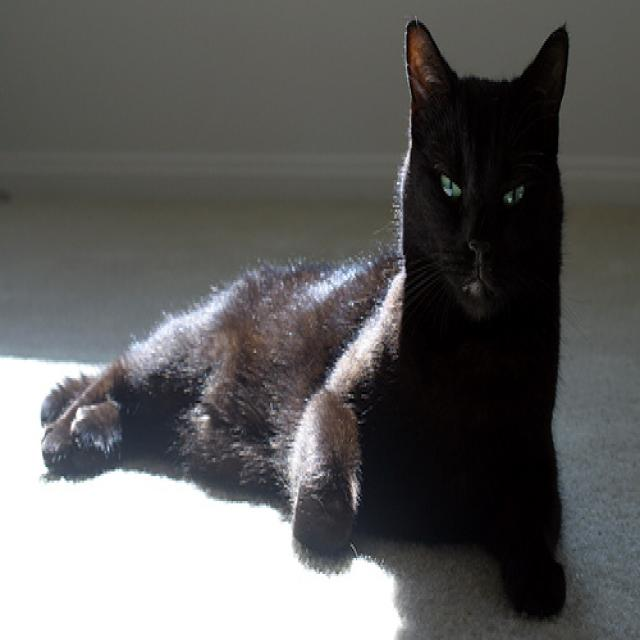cat: (40, 17, 571, 623)
